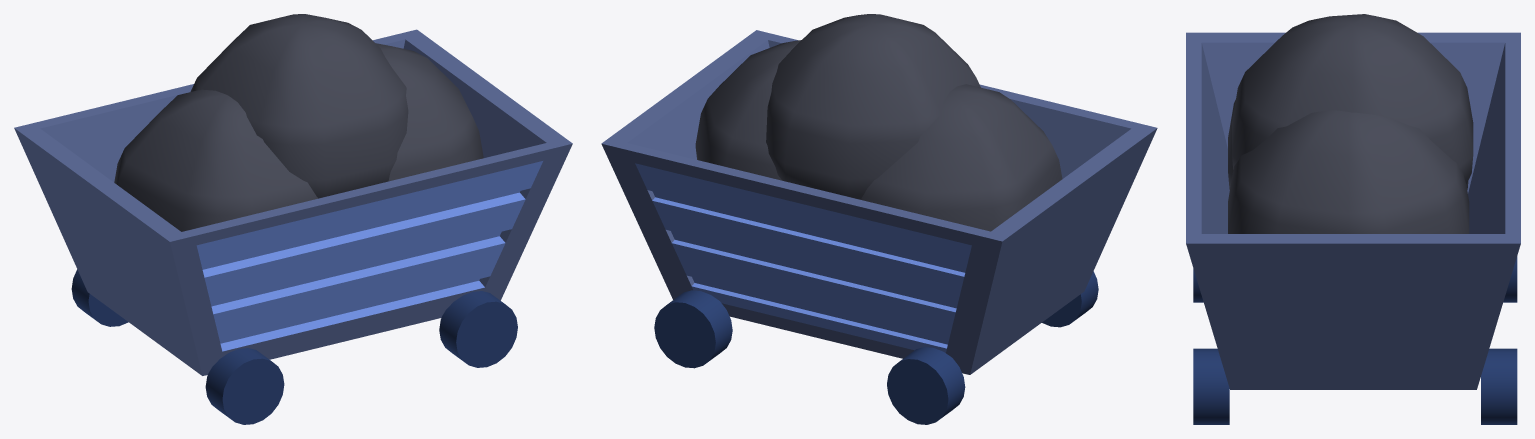
Rendered from Minecart_with_Coal.fbx.
The picture shows the model from 3 angles, left to right: view 1: azimuth 30°, elevation 25°; view 2: azimuth 150°, elevation 25°; view 3: azimuth 270°, elevation 25°; orthographic projection. The views are drawn at different scales.
Parts seen in each view (by area): view 1: Minecart_with_Coal; view 2: Minecart_with_Coal; view 3: Minecart_with_Coal.
Boxes of the visible parts, <box> form: Minecart_with_Coal: <box>14,14,572,424</box>; Minecart_with_Coal: <box>601,14,1157,424</box>; Minecart_with_Coal: <box>1186,14,1520,424</box>.
Bounding box in the file's own units: 3.31 × 2.48 × 2.22.
